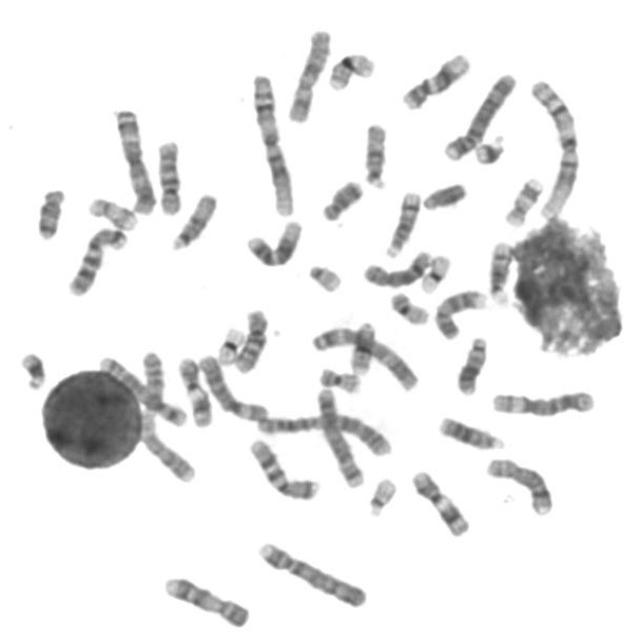A1: (526, 72, 584, 221), (247, 68, 297, 218)
A2: (121, 339, 202, 491), (253, 407, 395, 458)
A3: (307, 320, 422, 392), (109, 101, 158, 216)
B4: (253, 535, 371, 610), (440, 66, 520, 163)
B5: (94, 350, 189, 428), (311, 382, 367, 488)
C10: (230, 303, 272, 375), (152, 134, 185, 216)
C11: (407, 464, 473, 538), (172, 352, 214, 429)
C12: (398, 46, 474, 111), (241, 214, 305, 268)
C6: (193, 348, 270, 423), (487, 384, 599, 418)
C7: (244, 432, 324, 502), (63, 221, 131, 298)
C8: (482, 451, 557, 517), (358, 244, 434, 288)
C9: (159, 570, 252, 630), (430, 284, 489, 341)
D13: (434, 410, 508, 451), (452, 329, 491, 396)
D14: (381, 185, 424, 259), (484, 235, 516, 307)
D15: (166, 187, 220, 253), (359, 117, 390, 191)
E16: (337, 313, 382, 382), (324, 46, 378, 92)
E17: (500, 171, 546, 228), (84, 191, 142, 232)
E18: (316, 173, 367, 223), (31, 182, 68, 241)
F19: (416, 250, 454, 294), (211, 321, 248, 366)
F20: (386, 286, 433, 326), (314, 360, 365, 394)
G21: (13, 346, 50, 392), (469, 128, 508, 166)
G22: (362, 470, 400, 518), (304, 258, 346, 294)
X: (283, 23, 334, 123)
Y: (419, 176, 470, 212)
